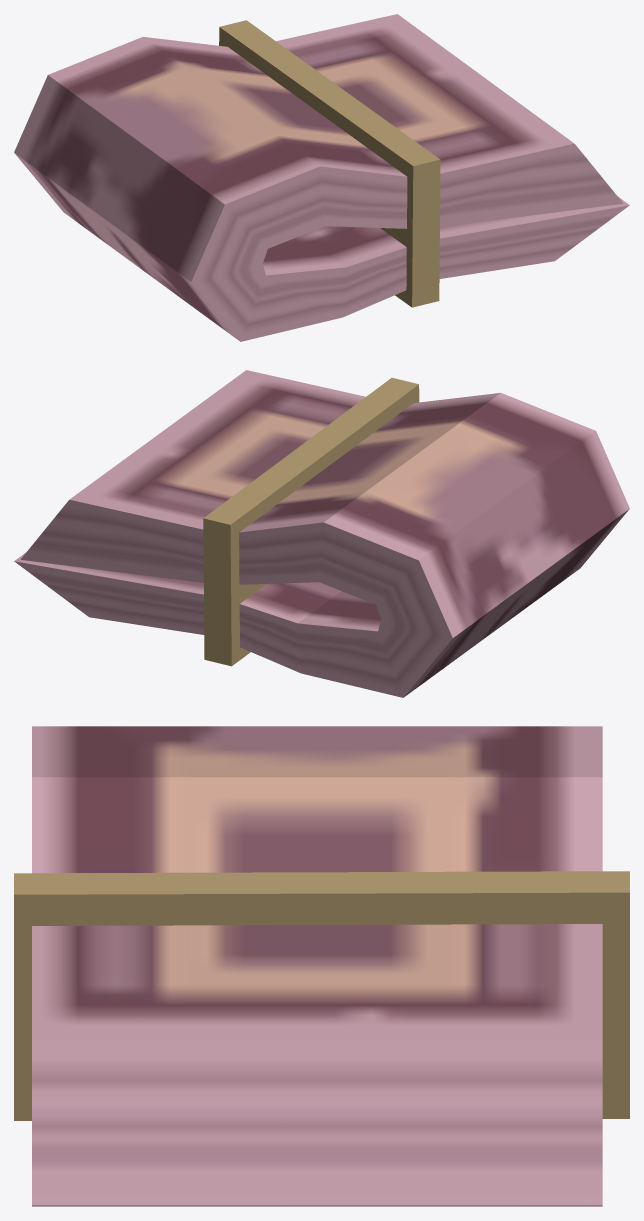
Rendered from SM_Prop_Money_Folded_01.glb.
3 views of the same model, one above another, from view 1: azimuth 30°, elevation 25°; view 2: azimuth 150°, elevation 25°; view 3: azimuth 270°, elevation 25° (orthographic). The views are drawn at different scales.
Visible parts, largest first — view 1: SM_Prop_Money_Folded_01; view 2: SM_Prop_Money_Folded_01; view 3: SM_Prop_Money_Folded_01.
Boxes of the visible parts, x1,y1,x2,y2 form: SM_Prop_Money_Folded_01: (14, 14, 629, 341); SM_Prop_Money_Folded_01: (14, 370, 629, 697); SM_Prop_Money_Folded_01: (14, 726, 629, 1206).
Bounding box in the file's own units: 0.1594 × 0.0549 × 0.1203.
1 material, 1 textured.
